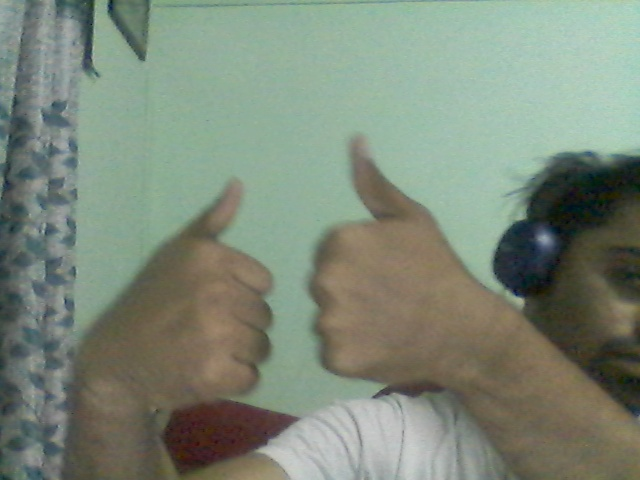Thank You: (58, 112, 540, 460)
